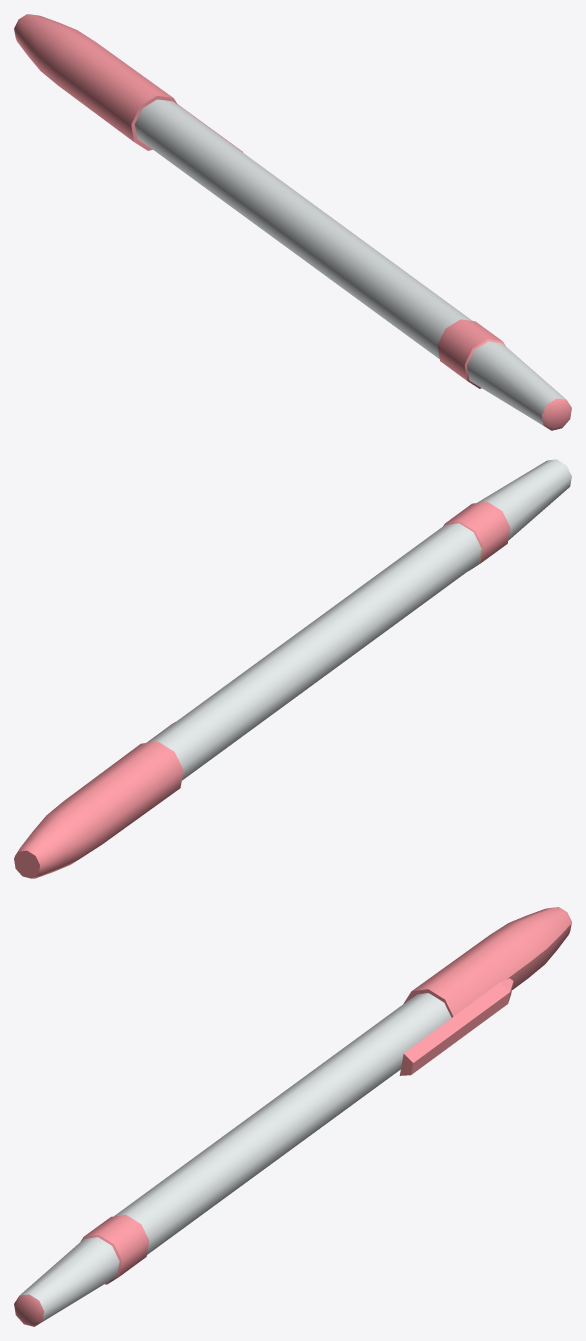
File: 빨강볼펜.fbx
3 views of the same model, one above another, from view 1: azimuth 30°, elevation 25°; view 2: azimuth 150°, elevation 25°; view 3: azimuth 330°, elevation 25° (orthographic).
Visible parts, largest first — view 1: pen.002, hood_01.002; view 2: pen.002, hood_01.002; view 3: pen.002, hood_01.002.
Part boxes in pixels (x1,y1,x2,y2): pen.002: (135,99,571,430); hood_01.002: (14,14,243,152); pen.002: (148,459,571,780); hood_01.002: (14,722,183,878); pen.002: (14,993,451,1326); hood_01.002: (399,907,571,1075).
Size of the model in its own units: 107 by 88.4 by 1601.
